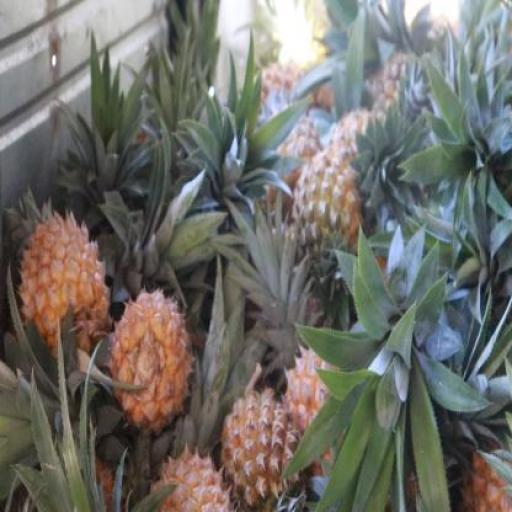Pineapple - v8 v1: (19, 209, 110, 356), (109, 287, 188, 421), (220, 380, 296, 511), (147, 444, 230, 512)
